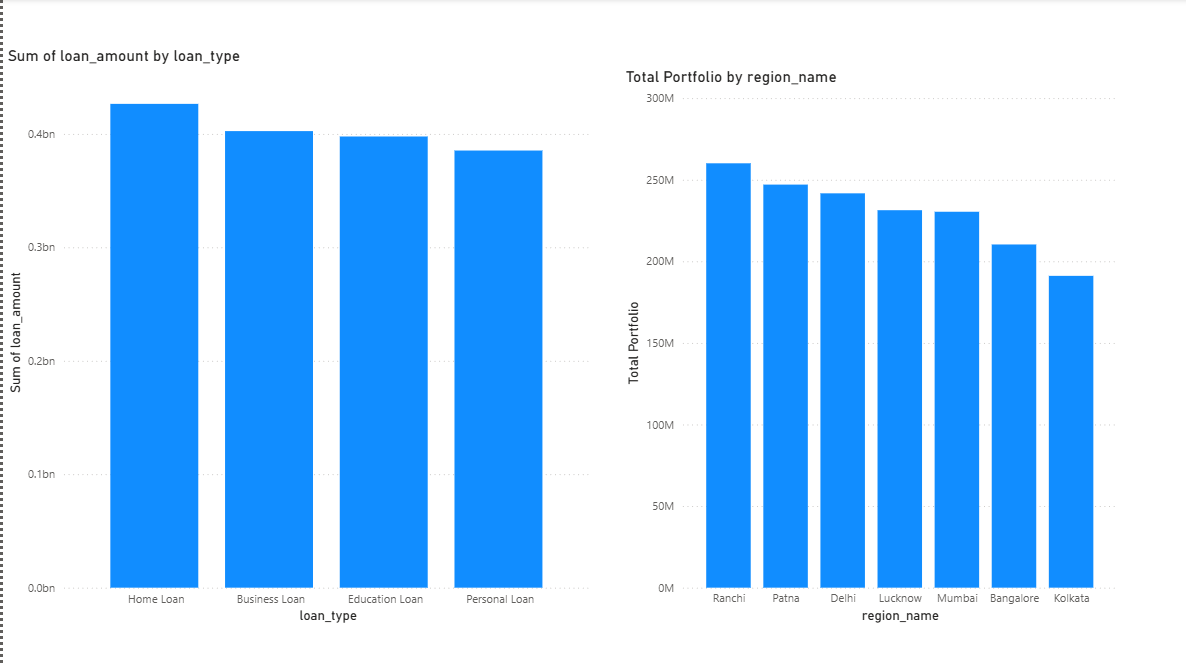

What the dashboard file says about the page in this screenshot:
{"tool":"powerbi","page":{"name":"Profitability Analysis","canvas":[1280,720],"ordinal":2},"visuals":[{"type":"columnChart","fields":{"Category":["Loans.loan_type"],"Y":["Sum(Loans.loan_amount)"]},"box":[0,51,640.6,627.4],"z":0},{"type":"clusteredColumnChart","fields":{"Category":["Regions.region_name"],"Y":["Loans.Total Portfolio"]},"box":[667.1,73.7,540.5,604.7],"z":1000}]}

Visuals, with their boxes in screenshot pixels (x1, y1, x2, y2), scaled from the page's 1280x720 canvas onto the 1186x665 screenshot:
columnChart - Loans.loan_type x Sum(Loans.loan_amount): pyautogui.locateOnScreen(0, 47, 594, 627)
clusteredColumnChart - Regions.region_name x Loans.Total Portfolio: pyautogui.locateOnScreen(618, 68, 1119, 627)
